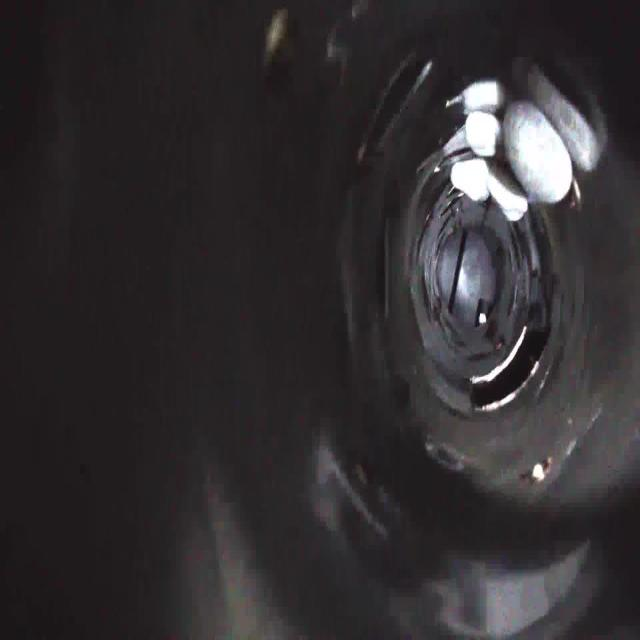crack: (506, 218, 543, 274), (405, 205, 431, 270), (434, 174, 468, 223), (429, 326, 468, 364), (408, 276, 433, 328), (506, 280, 540, 318), (478, 177, 500, 216), (464, 346, 496, 366)
hole: (470, 327, 550, 418)
